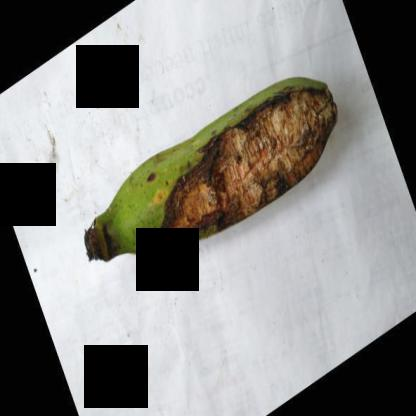rotten: (146, 76, 338, 248)
